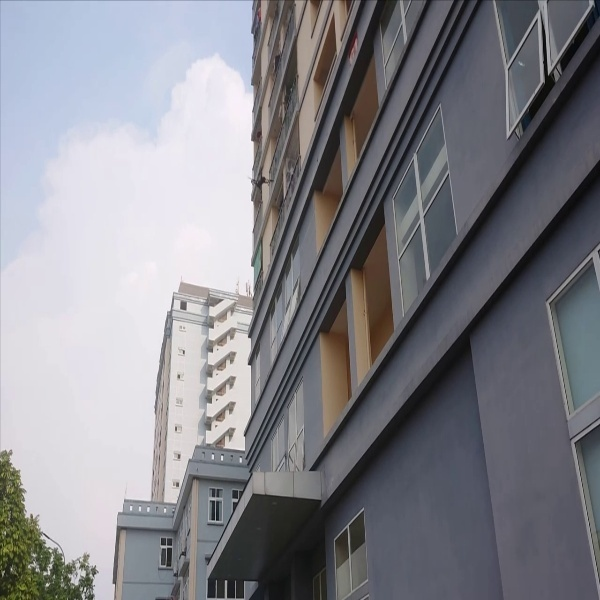drone: (247, 166, 274, 194)
